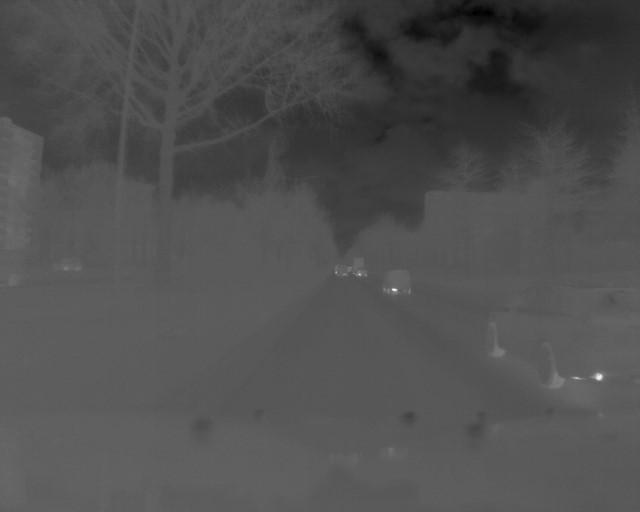car: (482, 276, 640, 392), (379, 268, 413, 297)
